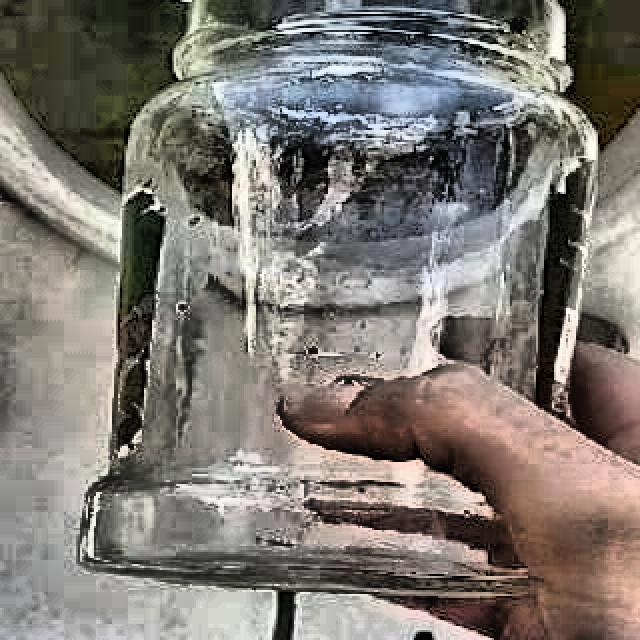glass: (80, 0, 597, 598)
